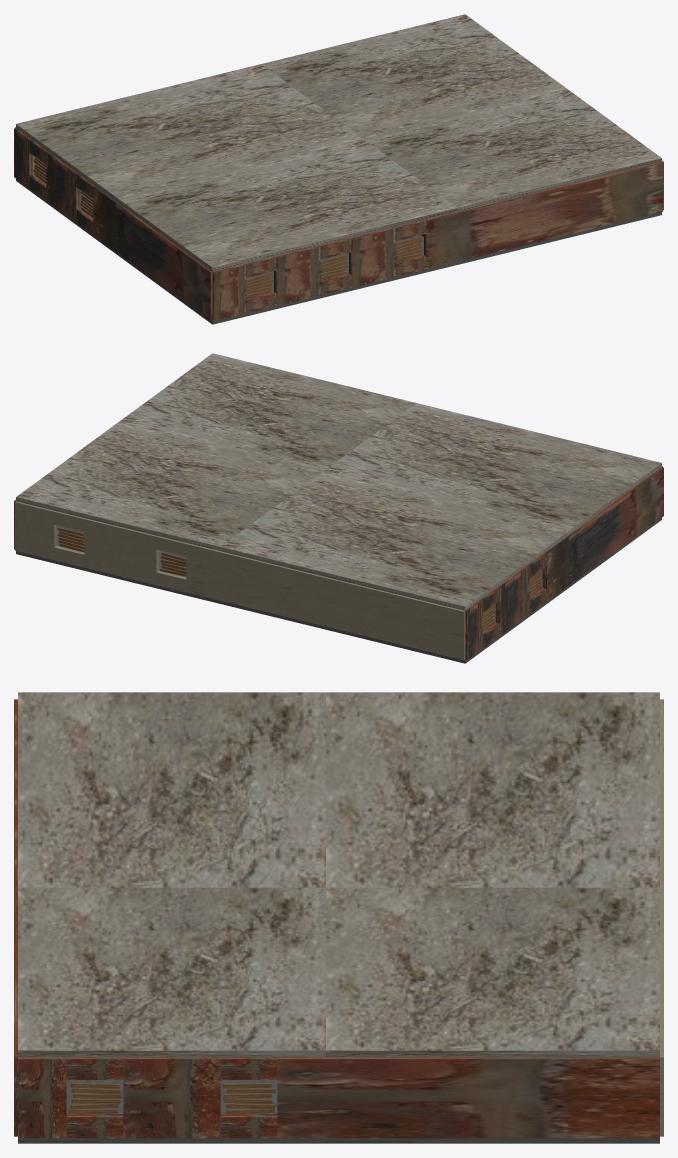
The model's file is bunker13.glb.
3 renders of one model, top to bottom at view 1: azimuth 30°, elevation 25°; view 2: azimuth 150°, elevation 25°; view 3: azimuth 270°, elevation 25°, orthographic. The views are drawn at different scales.
Parts seen in each view (by area): view 1: Ceiling_B, Ceiling_A, Ceiling_C, Ceiling_D, Wall_N_9, Wall_W_0, Wall_N_6, Wall_N_3, Floor_A, Wall_N_0, Wall_W_3, Wall_W_6 (+4 smaller); view 2: Ceiling_B, Ceiling_A, Ceiling_C, Ceiling_D, Wall_S_0, Wall_W_0, Wall_S_3, Wall_S_6, Wall_W_3, Floor_B, Floor_C, Wall_W_6 (+2 smaller); view 3: Ceiling_B, Ceiling_A, Ceiling_C, Ceiling_D, Wall_E_6, Wall_E_3, Wall_E_0, Floor_D, Floor_C, Wall_E_1, Wall_E_4, Wall_E_2 (+3 smaller).
Boxes of the visible parts, left/top/right/bottom form: Ceiling_B: left=16, top=64, right=362, bottom=202; Ceiling_A: left=118, top=139, right=457, bottom=271; Ceiling_C: left=261, top=14, right=566, bottom=138; Ceiling_D: left=364, top=89, right=661, bottom=211; Wall_N_9: left=424, top=162, right=662, bottom=269; Wall_W_0: left=93, top=186, right=212, bottom=320; Wall_N_6: left=349, top=227, right=396, bottom=287; Wall_N_3: left=274, top=246, right=321, bottom=305; Floor_A: left=118, top=235, right=457, bottom=324; Wall_N_0: left=212, top=264, right=246, bottom=321; Wall_W_3: left=46, top=152, right=80, bottom=221; Wall_W_6: left=14, top=128, right=32, bottom=187; Ceiling_B: left=220, top=472, right=567, bottom=610; Ceiling_A: left=323, top=403, right=661, bottom=535; Ceiling_C: left=16, top=422, right=321, bottom=550; Ceiling_D: left=118, top=353, right=416, bottom=471; Wall_S_0: left=186, top=543, right=465, bottom=660; Wall_W_0: left=542, top=467, right=663, bottom=601; Wall_S_3: left=84, top=518, right=158, bottom=584; Wall_S_6: left=15, top=501, right=56, bottom=559; Wall_W_3: left=495, top=565, right=529, bottom=635; Floor_B: left=220, top=579, right=567, bottom=663; Floor_C: left=16, top=525, right=220, bottom=603; Wall_W_6: left=465, top=600, right=482, bottom=659; Ceiling_B: left=326, top=692, right=659, bottom=887; Ceiling_A: left=18, top=692, right=325, bottom=887; Ceiling_C: left=326, top=887, right=659, bottom=1057; Ceiling_D: left=18, top=887, right=325, bottom=1057; Wall_E_6: left=277, top=1057, right=659, bottom=1138; Wall_E_3: left=123, top=1057, right=220, bottom=1138; Wall_E_0: left=18, top=1057, right=66, bottom=1138; Floor_D: left=18, top=1080, right=325, bottom=1143; Floor_C: left=326, top=1138, right=659, bottom=1143; Wall_E_1: left=66, top=1114, right=123, bottom=1138; Wall_E_4: left=220, top=1114, right=277, bottom=1138; Wall_E_2: left=66, top=1057, right=123, bottom=1079.
Bounding box in the file's own units: 33.3 × 4 × 25.3.
11 materials, 6 textured.
